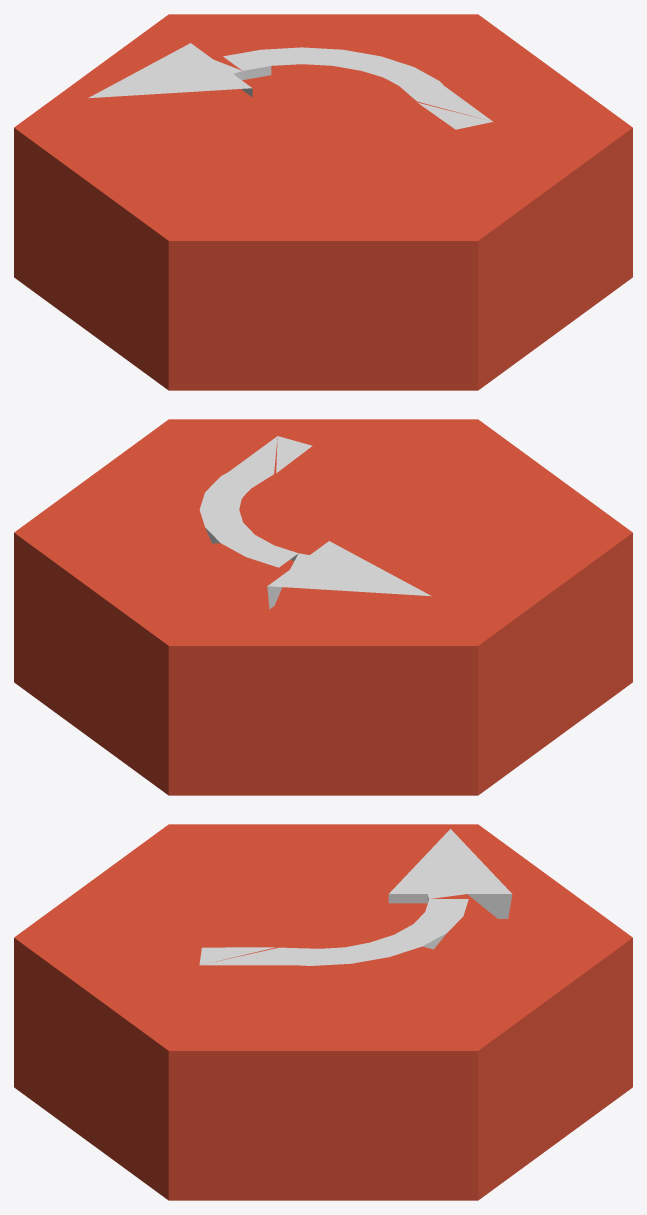
3 renders of one model, top to bottom at view 1: azimuth 30°, elevation 25°; view 2: azimuth 150°, elevation 25°; view 3: azimuth 270°, elevation 25°, orthographic.
Visible parts, largest first — view 1: Circle.008, MP_Brick_Terrain.007; view 2: Circle.008, MP_Brick_Terrain.007; view 3: Circle.008, MP_Brick_Terrain.007.
Boxes of the visible parts, bbox=[...] form: Circle.008: bbox=[14, 14, 632, 390]; MP_Brick_Terrain.007: bbox=[88, 43, 492, 129]; Circle.008: bbox=[14, 419, 632, 795]; MP_Brick_Terrain.007: bbox=[199, 436, 431, 609]; Circle.008: bbox=[14, 824, 632, 1200]; MP_Brick_Terrain.007: bbox=[199, 829, 512, 965].
Size of the model in its own units: 1956 by 703 by 2258.
